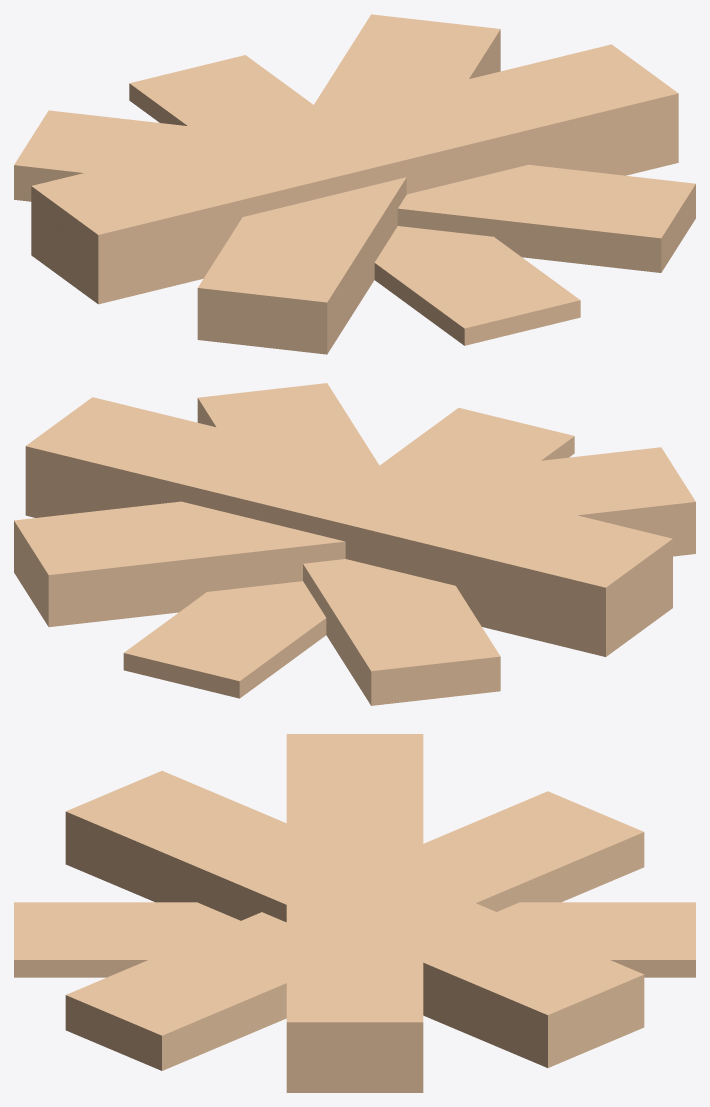
File: campfire_large.glb
3 renders of one model, top to bottom at view 1: azimuth 30°, elevation 25°; view 2: azimuth 150°, elevation 25°; view 3: azimuth 270°, elevation 25°, orthographic.
Visible parts, largest first — view 1: campfire_large; view 2: campfire_large; view 3: campfire_large.
Part boxes in pixels (bbox=[...]): campfire_large: bbox=[14, 14, 695, 354]; campfire_large: bbox=[14, 383, 695, 705]; campfire_large: bbox=[14, 734, 695, 1092].
Size of the model in its own units: 0.35 by 0.04 by 0.35.
